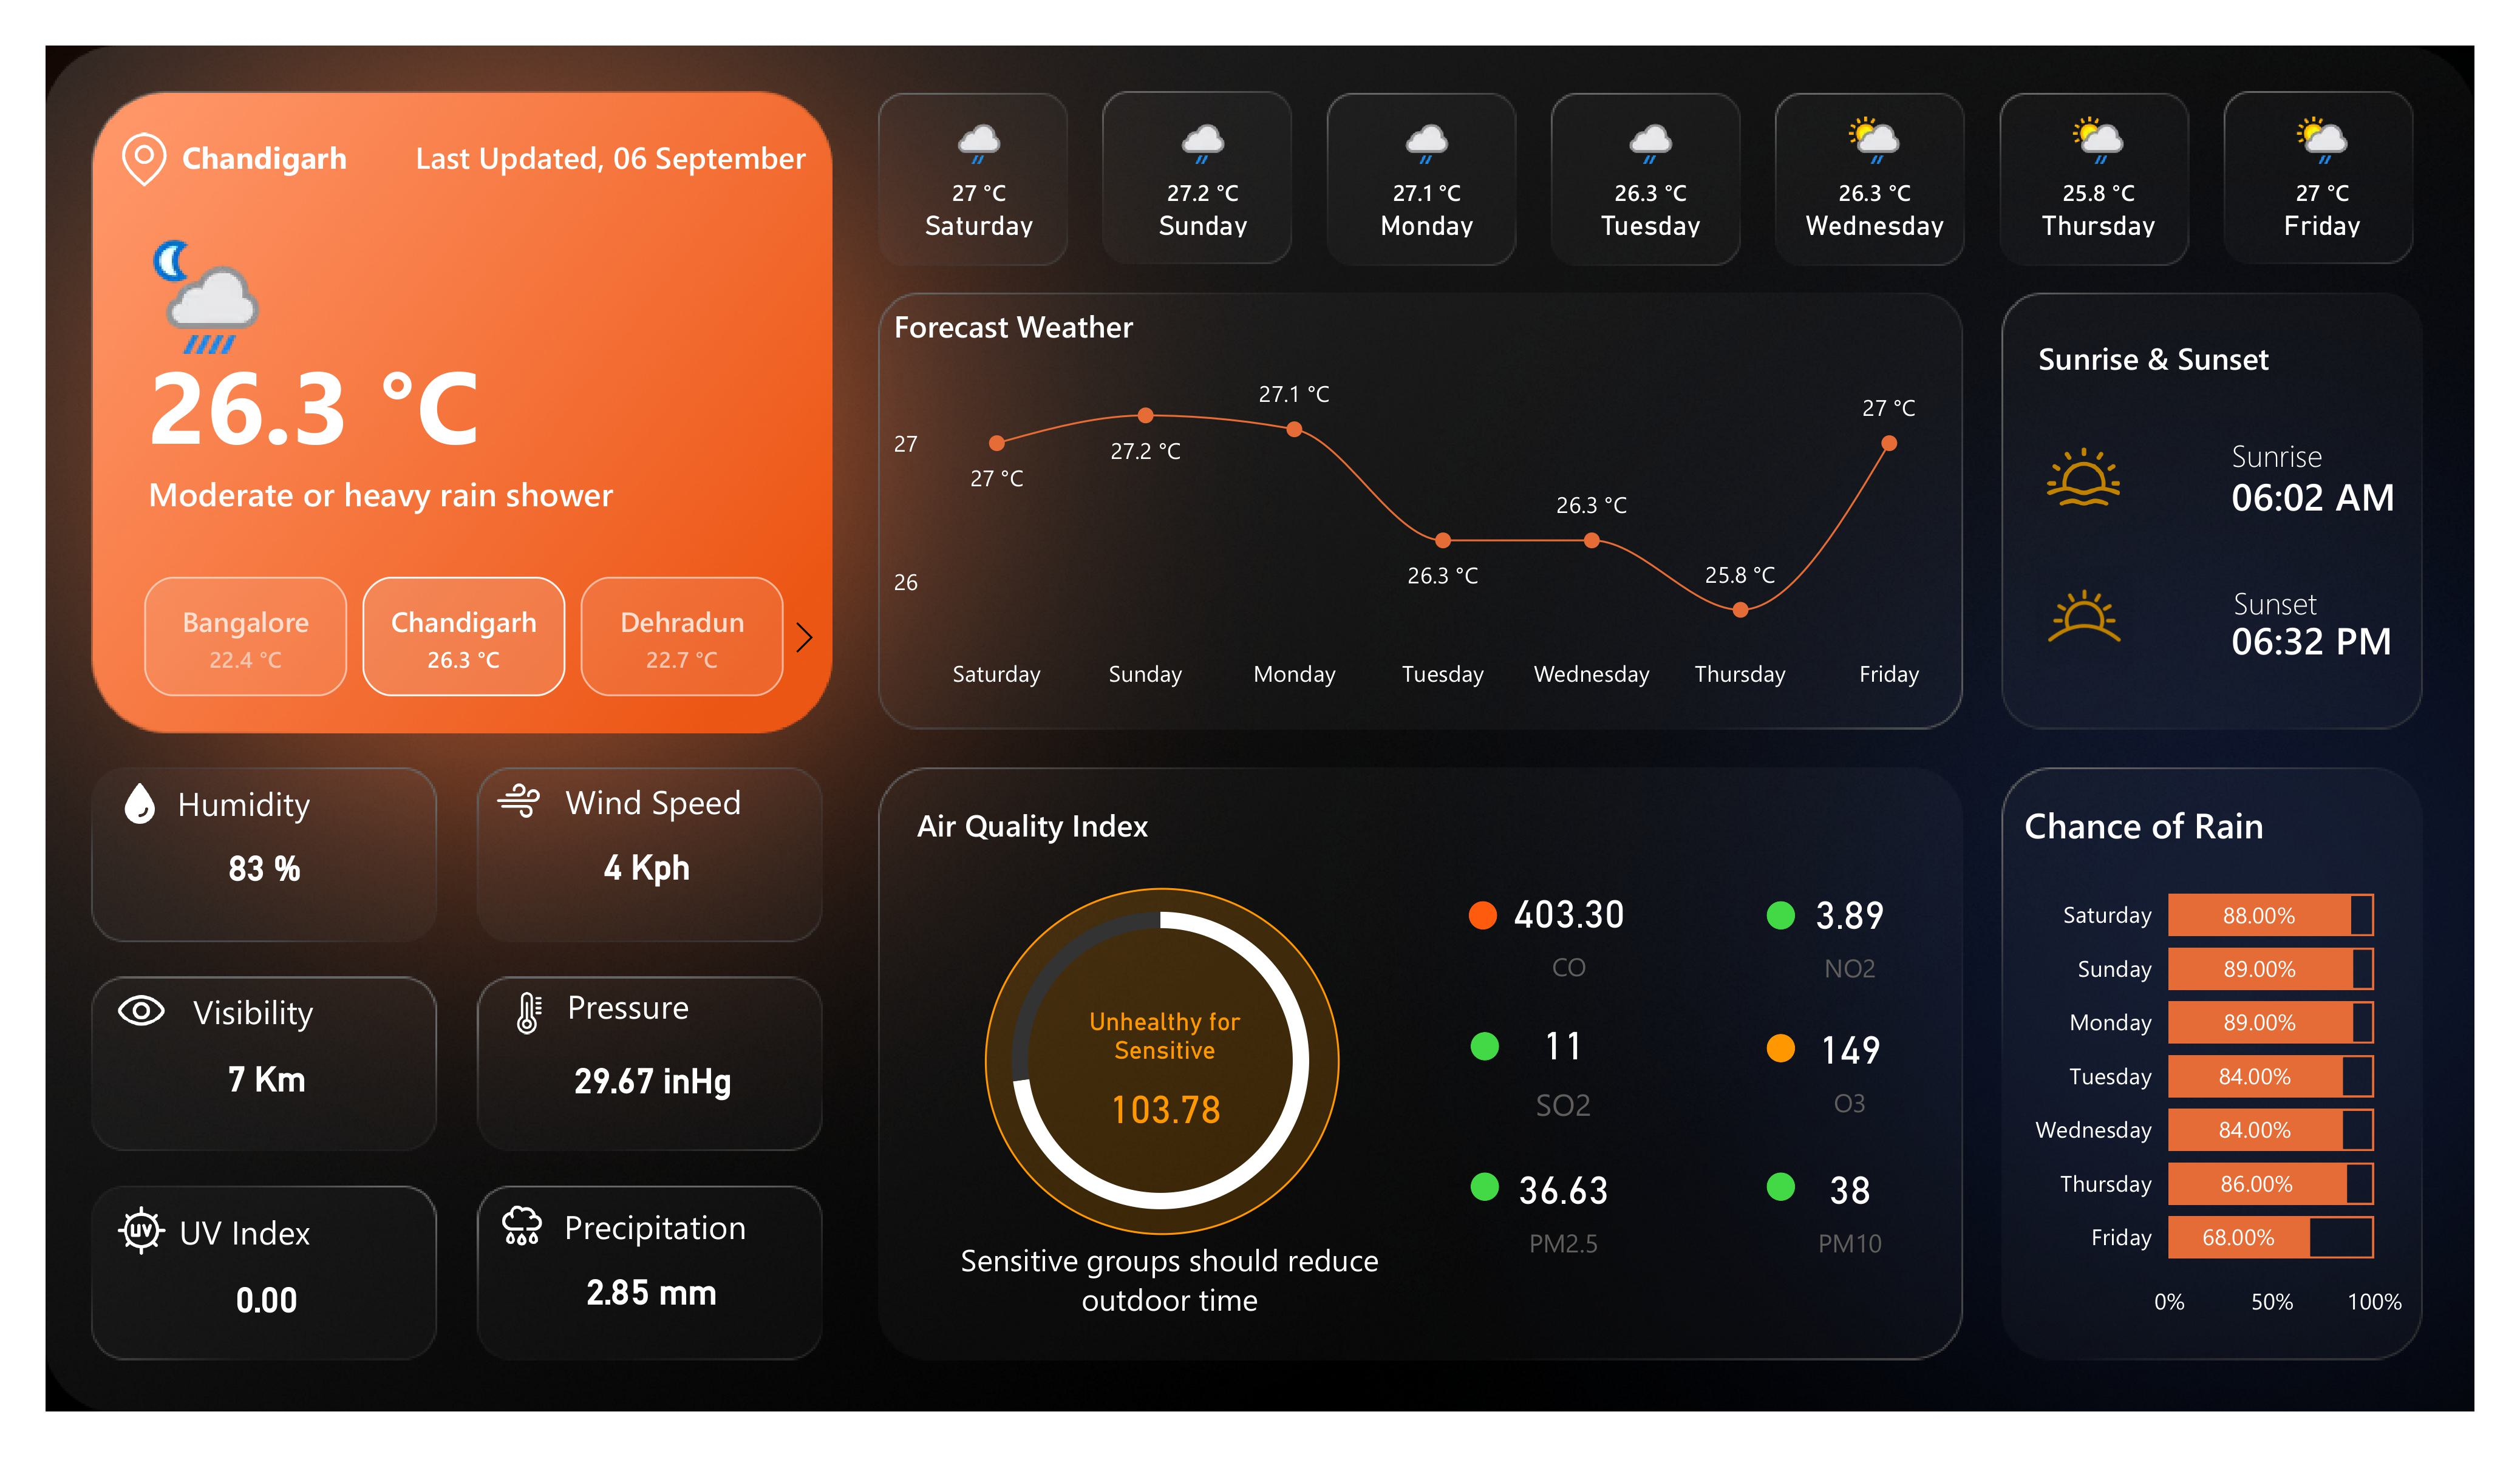

What the dashboard file says about the page in this screenshot:
{"tool":"powerbi","page":{"name":"Page 1","canvas":[1280,720],"ordinal":0},"visuals":[{"type":"advancedSlicerVisual","fields":{"Values":["Locations.location.name"]},"box":[26.7,275,388.3,73.3],"z":0},{"type":"image","box":[32.9,35.7,38.6,47.1],"z":1000},{"type":"image","box":[27.5,383.3,42.5,32.5],"z":2000},{"type":"image","box":[30.8,487.5,39.2,41.7],"z":3000},{"type":"image","box":[30,605.8,40,36.7],"z":4000},{"type":"image","box":[232.5,600,36.7,42.5],"z":5000},{"type":"image","box":[232.5,494.2,44.2,31.7],"z":6000},{"type":"image","box":[229.2,380.8,40,34.2],"z":7000},{"type":"shape","box":[70,487.5,79.2,40],"z":8000},{"type":"shape","box":[60,377.5,89.2,40],"z":9000},{"type":"shape","box":[260,375.7,120.7,42.1],"z":10000},{"type":"shape","box":[266.7,484.2,80,41.7],"z":11000},{"type":"shape","box":[260,600,122.5,42.5],"z":12000},{"type":"shape","box":[60.8,602.5,88.3,42.5],"z":13000},{"type":"shape","box":[53.6,147.9,179.3,78.6],"z":14000},{"type":"shape","box":[53.6,195.7,332.9,77.9],"z":15000},{"type":"shape","box":[195,35,211.4,46.4],"z":16000},{"type":"shape","box":[72.1,35,182.1,46.4],"z":17000},{"type":"cardVisual","fields":{"Data":["Min(Current.current.condition.icon)"]},"box":[7.5,81.2,128.8,106.2],"z":18000},{"type":"card","fields":{"Values":["_Measures.Humidity"]},"box":[82.7,415.5,65.5,37.3],"z":19000},{"type":"card","fields":{"Values":["_Measures.Visibiltiy"]},"box":[83.6,525.7,65.7,38.6],"z":20000},{"type":"card","fields":{"Values":["Sum(Current.current.uv)"]},"box":[88.6,642.9,55,37.1],"z":21000},{"type":"card","fields":{"Values":["Sum(Current.current.air_quality.co)"]},"box":[747.1,427.5,111.7,78.3],"z":22000},{"type":"card","fields":{"Values":["_Measures.Pressure"]},"box":[262.7,526.4,114.5,40],"z":23000},{"type":"card","fields":{"Values":["_Measures.Precipitation"]},"box":[273.6,641.8,90.9,30.9],"z":24000},{"type":"advancedSlicerVisual","fields":{"Values":["Forecast_Day.Day_Name"]},"box":[431.8,27.3,833.6,80],"z":25000},{"type":"lineChart","title":"Forecast Weather","fields":{"Y":["Sum(Forecast_Day.forecast.forecastday.day.avgtemp_c)"],"Category":["Forecast_Day.Day_Name"]},"box":[442.2,136.7,565.6,212.2],"z":26000},{"type":"shape","box":[1038.3,136.7,133.3,55],"z":27000},{"type":"shape","box":[1151.7,210,98.3,51.7],"z":28000},{"type":"shape","box":[1151.7,293.3,95,38.3],"z":29000},{"type":"shape","box":[1151.8,190,98.2,50.9],"z":30000},{"type":"shape","box":[1152.7,273.6,94.5,38.2],"z":31000},{"type":"image","box":[1050,202.9,47.6,48.6],"z":32000},{"type":"image","box":[1041,270.5,66.7,61],"z":33000},{"type":"hundredPercentStackedBarChart","title":"Chance of Rain","fields":{"Y":["Sum(Forecast_Day.forecast.forecastday.day.daily_chance_of_rain)","Current.Left_value_Rain"],"Category":["Forecast_Day.Day_Name"]},"box":[1038.3,398.3,208.3,281.7],"z":34000},{"type":"shape","box":[447.9,382.9,133.6,55],"z":35000},{"type":"card","fields":{"Values":["Sum(Current.current.air_quality.no2)"]},"box":[922.5,427.6,58,78],"z":36000},{"type":"card","fields":{"Values":["Sum(Current.current.air_quality.pm2_5)"]},"box":[744.5,572.6,112,78],"z":37000},{"type":"card","fields":{"Values":["Sum(Current.current.air_quality.o3)"]},"box":[895.5,498.6,112,78],"z":38000},{"type":"card","fields":{"Values":["Sum(Current.current.air_quality.pm10)"]},"box":[895.5,572.6,112,78],"z":39000},{"type":"card","fields":{"Values":["Sum(Current.current.air_quality.so2)"]},"box":[744.5,498.6,112,78],"z":40000},{"type":"shape","box":[750.3,450.9,15,15],"z":41000},{"type":"shape","box":[907.3,593.7,15,15],"z":42000},{"type":"shape","box":[750.6,593.7,15,15],"z":43000},{"type":"shape","box":[750.6,520.4,15,15],"z":44000},{"type":"shape","box":[907.3,521.2,15,15],"z":45000},{"type":"shape","box":[907.3,451.2,15,15],"z":46000},{"type":"shape","box":[494.8,443.9,187.1,182.9],"z":47000},{"type":"donutChart","fields":{"Y":["Sum(Current.CO)","_Measures.Left_value_03"]},"box":[430,431.8,315.5,206.4],"z":48000},{"type":"card","fields":{"Values":["_Measures.Final_AQI"]},"box":[533.6,507.2,112,78],"z":49000},{"type":"shape","box":[458.6,611.4,267.1,77.1],"z":50000},{"type":"card","fields":{"Values":["_Measures.Wind_Speed"]},"box":[279.1,415.5,76.4,36.4],"z":51000}]}

Visuals, with their boxes on the page's 1280x720 design canvas (x1, y1, x2, y2). These are canvas units, not pixel positions in the 2520x1457 screenshot, which may show the page scaled, cropped or inside an application window:
advancedSlicerVisual - Locations.location.name: box=[27, 275, 415, 348]
image: box=[33, 36, 72, 83]
image: box=[28, 383, 70, 416]
image: box=[31, 488, 70, 529]
image: box=[30, 606, 70, 642]
image: box=[232, 600, 269, 642]
image: box=[232, 494, 277, 526]
image: box=[229, 381, 269, 415]
shape: box=[70, 488, 149, 528]
shape: box=[60, 378, 149, 418]
shape: box=[260, 376, 381, 418]
shape: box=[267, 484, 347, 526]
shape: box=[260, 600, 382, 642]
shape: box=[61, 602, 149, 645]
shape: box=[54, 148, 233, 226]
shape: box=[54, 196, 386, 274]
shape: box=[195, 35, 406, 81]
shape: box=[72, 35, 254, 81]
cardVisual - Min(Current.current.condition.icon): box=[8, 81, 136, 187]
card - _Measures.Humidity: box=[83, 416, 148, 453]
card - _Measures.Visibiltiy: box=[84, 526, 149, 564]
card - Sum(Current.current.uv): box=[89, 643, 144, 680]
card - Sum(Current.current.air_quality.co): box=[747, 428, 859, 506]
card - _Measures.Pressure: box=[263, 526, 377, 566]
card - _Measures.Precipitation: box=[274, 642, 364, 673]
advancedSlicerVisual - Forecast_Day.Day_Name: box=[432, 27, 1265, 107]
"Forecast Weather" lineChart: box=[442, 137, 1008, 349]
shape: box=[1038, 137, 1172, 192]
shape: box=[1152, 210, 1250, 262]
shape: box=[1152, 293, 1247, 332]
shape: box=[1152, 190, 1250, 241]
shape: box=[1153, 274, 1247, 312]
image: box=[1050, 203, 1098, 252]
image: box=[1041, 270, 1108, 332]
"Chance of Rain" hundredPercentStackedBarChart: box=[1038, 398, 1247, 680]
shape: box=[448, 383, 582, 438]
card - Sum(Current.current.air_quality.no2): box=[922, 428, 980, 506]
card - Sum(Current.current.air_quality.pm2_5): box=[744, 573, 856, 651]
card - Sum(Current.current.air_quality.o3): box=[896, 499, 1008, 577]
card - Sum(Current.current.air_quality.pm10): box=[896, 573, 1008, 651]
card - Sum(Current.current.air_quality.so2): box=[744, 499, 856, 577]
shape: box=[750, 451, 765, 466]
shape: box=[907, 594, 922, 609]
shape: box=[751, 594, 766, 609]
shape: box=[751, 520, 766, 535]
shape: box=[907, 521, 922, 536]
shape: box=[907, 451, 922, 466]
shape: box=[495, 444, 682, 627]
donutChart - Sum(Current.CO) x _Measures.Left_value_03: box=[430, 432, 746, 638]
card - _Measures.Final_AQI: box=[534, 507, 646, 585]
shape: box=[459, 611, 726, 688]
card - _Measures.Wind_Speed: box=[279, 416, 356, 452]
